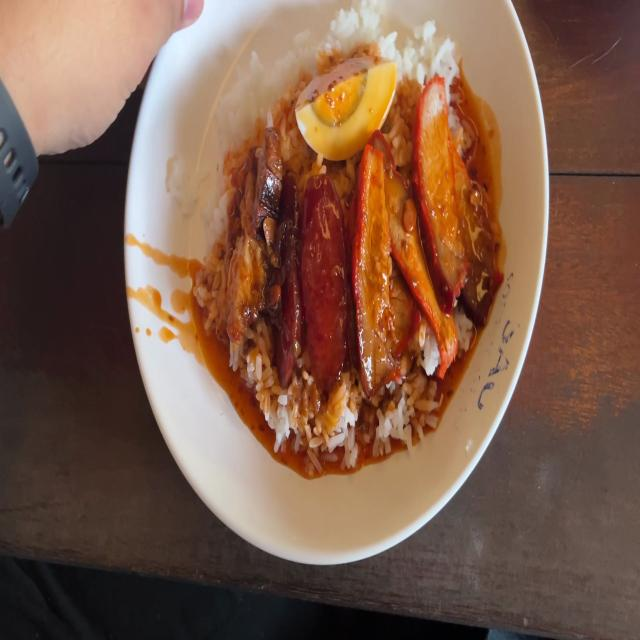red_pork_and_crispy_pork: (298, 58, 397, 150)
stir_fried_basil: (280, 178, 345, 384)
